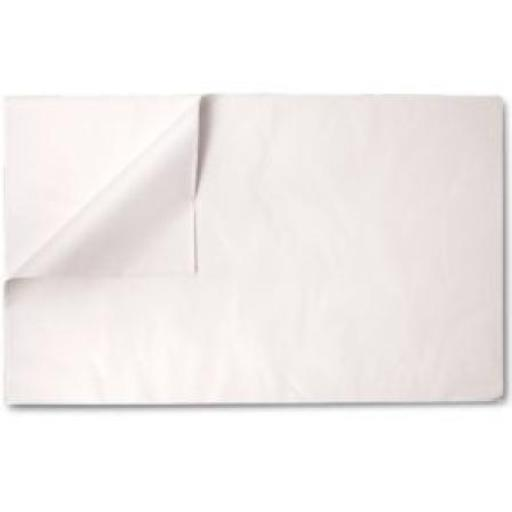paper: (0, 90, 512, 412)
